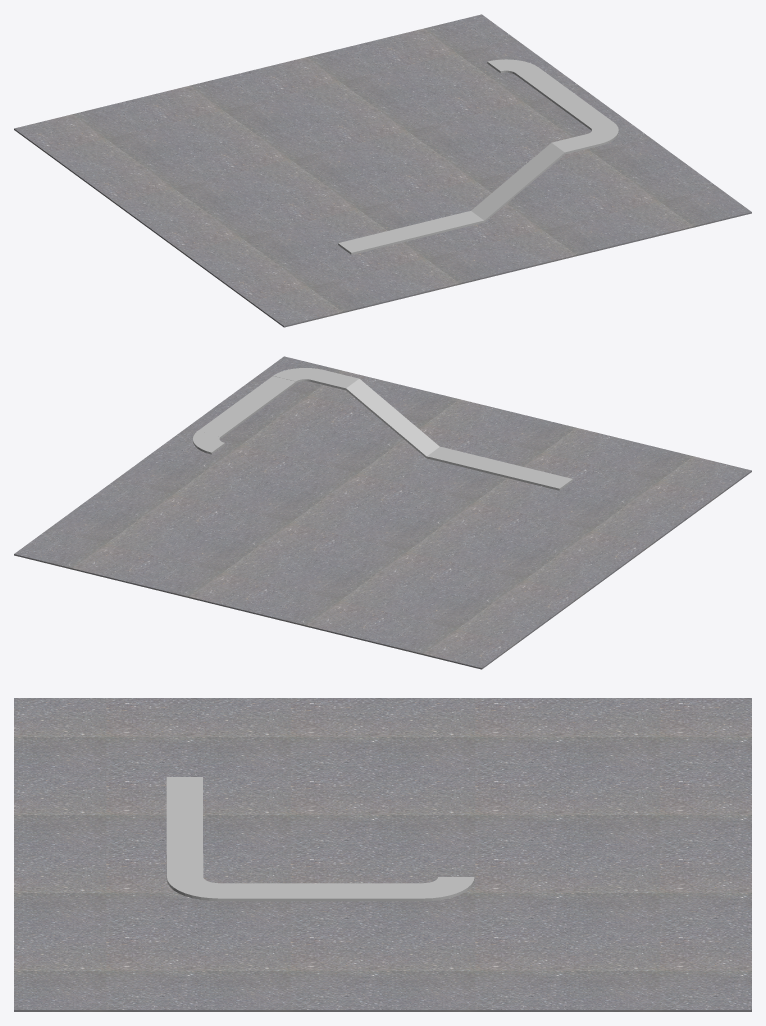
Rendered from level_proto.fbx.
The picture shows the model from 3 angles, top to bottom: view 1: azimuth 30°, elevation 25°; view 2: azimuth 150°, elevation 25°; view 3: azimuth 270°, elevation 25°; orthographic projection. The views are drawn at different scales.
Parts seen in each view (by area): view 1: stage_base01, road (×2), road_slope02, road_slope01, road_slope03, road_short; view 2: stage_base01, road (×2), road_slope02, road_slope03, road_slope01, road_short; view 3: stage_base01, road (×2), road_curve90 (×2), road_short.
Boxes of the visible parts, x1,y1,x2,y2 form: stage_base01: (14,14,751,327); road (×2): (338,67,613,254); road_slope02: (497,165,538,200); road_slope01: (525,142,566,176); road_slope03: (469,188,510,222); road_short: (554,134,599,153); stage_base01: (14,356,751,669); road (×2): (198,376,572,490); road_slope02: (372,401,413,436); road_slope03: (400,424,441,458); road_slope01: (344,378,385,412); road_short: (311,370,356,389); stage_base01: (14,698,751,1011); road (×2): (166,777,423,901); road_curve90 (×2): (166,876,474,901); road_short: (167,854,203,876).
Size of the model in its own units: 3500 by 3500 by 372.
